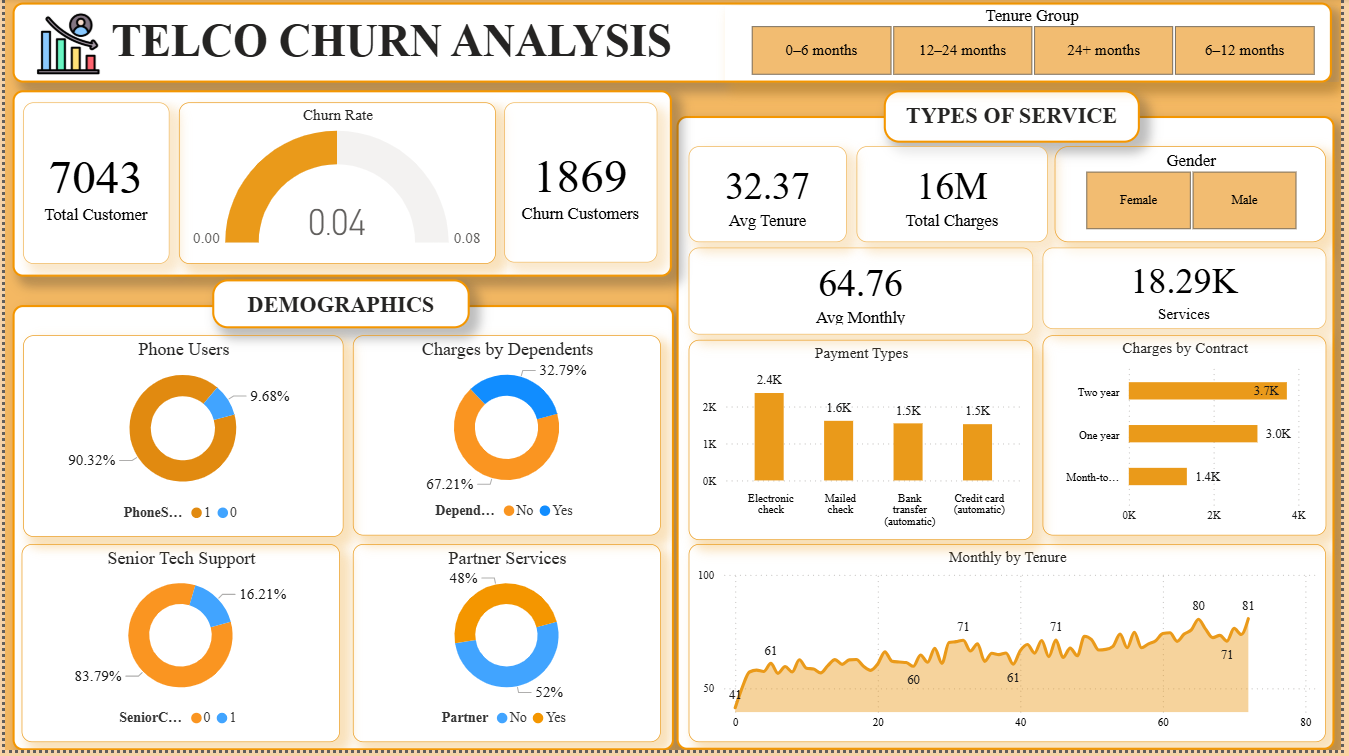

The page's visual inventory and layout, read from the dashboard file:
{"tool":"powerbi","page":{"name":"DASH","canvas":[1280,720],"ordinal":1},"visuals":[{"type":"textbox","box":[6.7,5,1263.3,76.7],"z":0},{"type":"textbox","box":[6.7,293.3,633.3,426.7],"z":1000},{"type":"textbox","box":[643.3,113.3,630,606.7],"z":2000},{"type":"textbox","box":[6.7,88.3,631.7,178.3],"z":3000},{"type":"textbox","box":[198.3,270,246.7,46.7],"z":4000},{"type":"textbox","box":[841.7,88.3,245,50],"z":5000},{"type":"areaChart","title":"Monthly by Tenure","fields":{"Category":["Fact Table.tenure"],"Y":["Customer Dimension.Average Monthly Charges"]},"box":[655,523.3,610,190],"z":6000},{"type":"donutChart","title":"Senior Tech Support","fields":{"Category":["Telco_Customer_Churn_Dataset (2).SeniorCitizen"],"Y":["CountNonNull(Service Dimension.TechSupport)"]},"box":[16.2,522.5,305,190],"z":7000},{"type":"donutChart","title":"Partner Services","fields":{"Category":["Telco_Customer_Churn_Dataset (2).Partner"],"Series":["Telco_Customer_Churn_Dataset (2).Partner"],"Y":["CountNonNull(Service Dimension.Num Service)"]},"box":[333.3,523.3,295,190],"z":8000},{"type":"columnChart","title":"Payment Types","fields":{"Category":["Contract Dimension.PaymentMethod"],"Y":["CountNonNull(Fact Table.tenure)"]},"box":[655,326.7,330,191.7],"z":9000},{"type":"slicer","title":"Tenure Group","fields":{"Values":["Fact Table.Tenure Group"]},"box":[690,6.7,588.3,73.3],"z":10000},{"type":"donutChart","title":"Phone Users","fields":{"Y":["Telco_Customer_Churn_Dataset (2).Total Customer"],"Category":["Service Dimension.PhoneService"]},"box":[16.7,323.3,306.7,193.3],"z":11000},{"type":"clusteredBarChart","title":"Charges by Contract","fields":{"Y":["Avg(Fact Table.TotalCharges)"],"Category":["Contract Dimension.Contract"]},"box":[993.3,323.3,271.7,191.7],"z":12000},{"type":"gauge","fields":{"Y":["Fact Table.Churn Rate"]},"box":[166.7,100,303.3,155],"z":13000},{"type":"card","fields":{"Values":["Telco_Customer_Churn_Dataset (2).Total Customer"]},"box":[16.7,100,140,155],"z":14000},{"type":"card","fields":{"Values":["Customer Dimension.Churn customer"]},"box":[478.3,100,146.7,153.3],"z":15000},{"type":"donutChart","title":"Charges by Dependents","fields":{"Category":["Customer Dimension.Dependents"],"Y":["Sum(Fact Table.TotalCharges)"]},"box":[333.3,323.3,295,191.7],"z":16000},{"type":"slicer","title":"Gender","fields":{"Values":["Telco_Customer_Churn_Dataset (2).gender"]},"box":[993.3,141.7,271.7,91.7],"z":17000},{"type":"card","fields":{"Values":["Telco_Customer_Churn_Dataset (2).Average Monthly Charges"]},"box":[655,238.3,330,83.3],"z":18000},{"type":"card","fields":{"Values":["Sum(Fact Table.TotalCharges)"]},"box":[815,141.7,170,91.7],"z":19000},{"type":"card","title":"Avg Tenure","fields":{"Values":["Avg(Fact Table.tenure)"]},"box":[655,141.7,151.7,91.7],"z":20000},{"type":"card","fields":{"Values":["Sum(Service Dimension.Num Service)"]},"box":[993.3,238.3,271.7,78.3],"z":21000},{"type":"image","box":[24.6,4.3,71,72.4],"z":22000}]}

Visuals, with their boxes in screenshot pixels (x1, y1, x2, y2), scaled from the page's 1280x720 canvas onto the 1349x756 screenshot:
textbox: x1=7 y1=5 x2=1338 y2=86
textbox: x1=7 y1=308 x2=674 y2=755
textbox: x1=678 y1=119 x2=1342 y2=755
textbox: x1=7 y1=93 x2=673 y2=280
textbox: x1=209 y1=284 x2=469 y2=333
textbox: x1=887 y1=93 x2=1145 y2=145
"Monthly by Tenure" areaChart: x1=690 y1=549 x2=1333 y2=749
"Senior Tech Support" donutChart: x1=17 y1=549 x2=339 y2=748
"Partner Services" donutChart: x1=351 y1=549 x2=662 y2=749
"Payment Types" columnChart: x1=690 y1=343 x2=1038 y2=544
"Tenure Group" slicer: x1=727 y1=7 x2=1347 y2=84
"Phone Users" donutChart: x1=18 y1=339 x2=341 y2=542
"Charges by Contract" clusteredBarChart: x1=1047 y1=339 x2=1333 y2=541
gauge - Fact Table.Churn Rate: x1=176 y1=105 x2=495 y2=268
card - Telco_Customer_Churn_Dataset (2).Total Customer: x1=18 y1=105 x2=165 y2=268
card - Customer Dimension.Churn customer: x1=504 y1=105 x2=659 y2=266
"Charges by Dependents" donutChart: x1=351 y1=339 x2=662 y2=541
"Gender" slicer: x1=1047 y1=149 x2=1333 y2=245
card - Telco_Customer_Churn_Dataset (2).Average Monthly Charges: x1=690 y1=250 x2=1038 y2=338
card - Sum(Fact Table.TotalCharges): x1=859 y1=149 x2=1038 y2=245
"Avg Tenure" card: x1=690 y1=149 x2=850 y2=245
card - Sum(Service Dimension.Num Service): x1=1047 y1=250 x2=1333 y2=332
image: x1=26 y1=5 x2=101 y2=81
